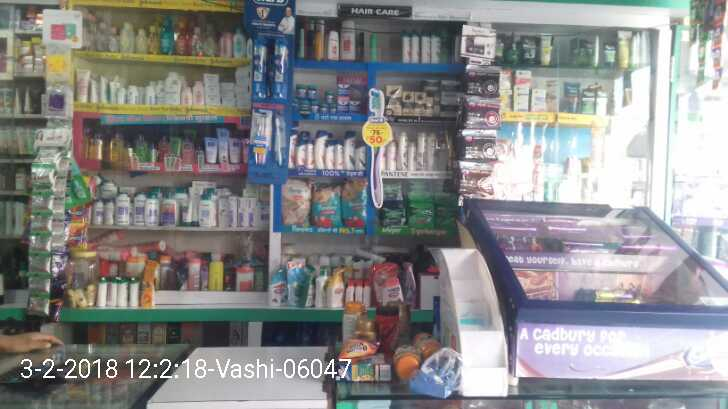beauty: (286, 126, 370, 171), (374, 127, 450, 175)
pharmacy: (290, 76, 362, 117), (283, 171, 313, 224), (339, 182, 367, 233), (313, 183, 343, 230), (377, 201, 409, 230), (405, 199, 431, 227), (404, 180, 433, 198), (381, 184, 402, 201)
